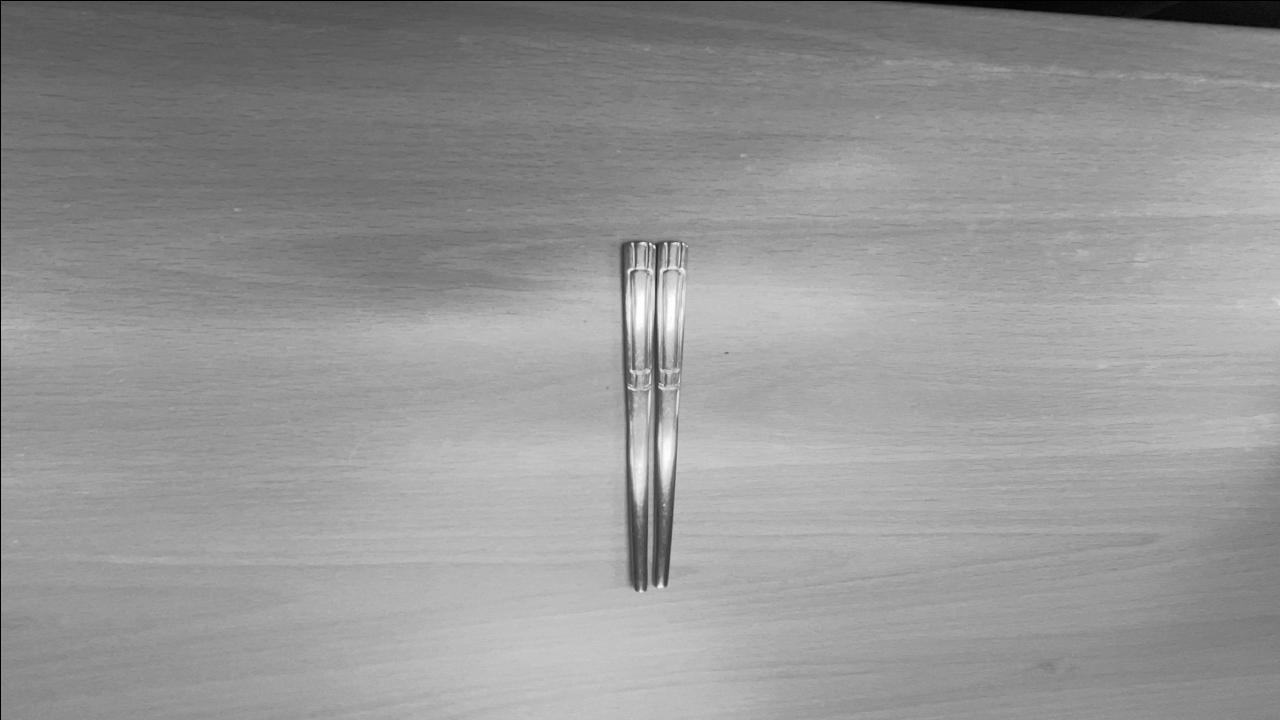chopstick: (607, 233, 698, 593)
